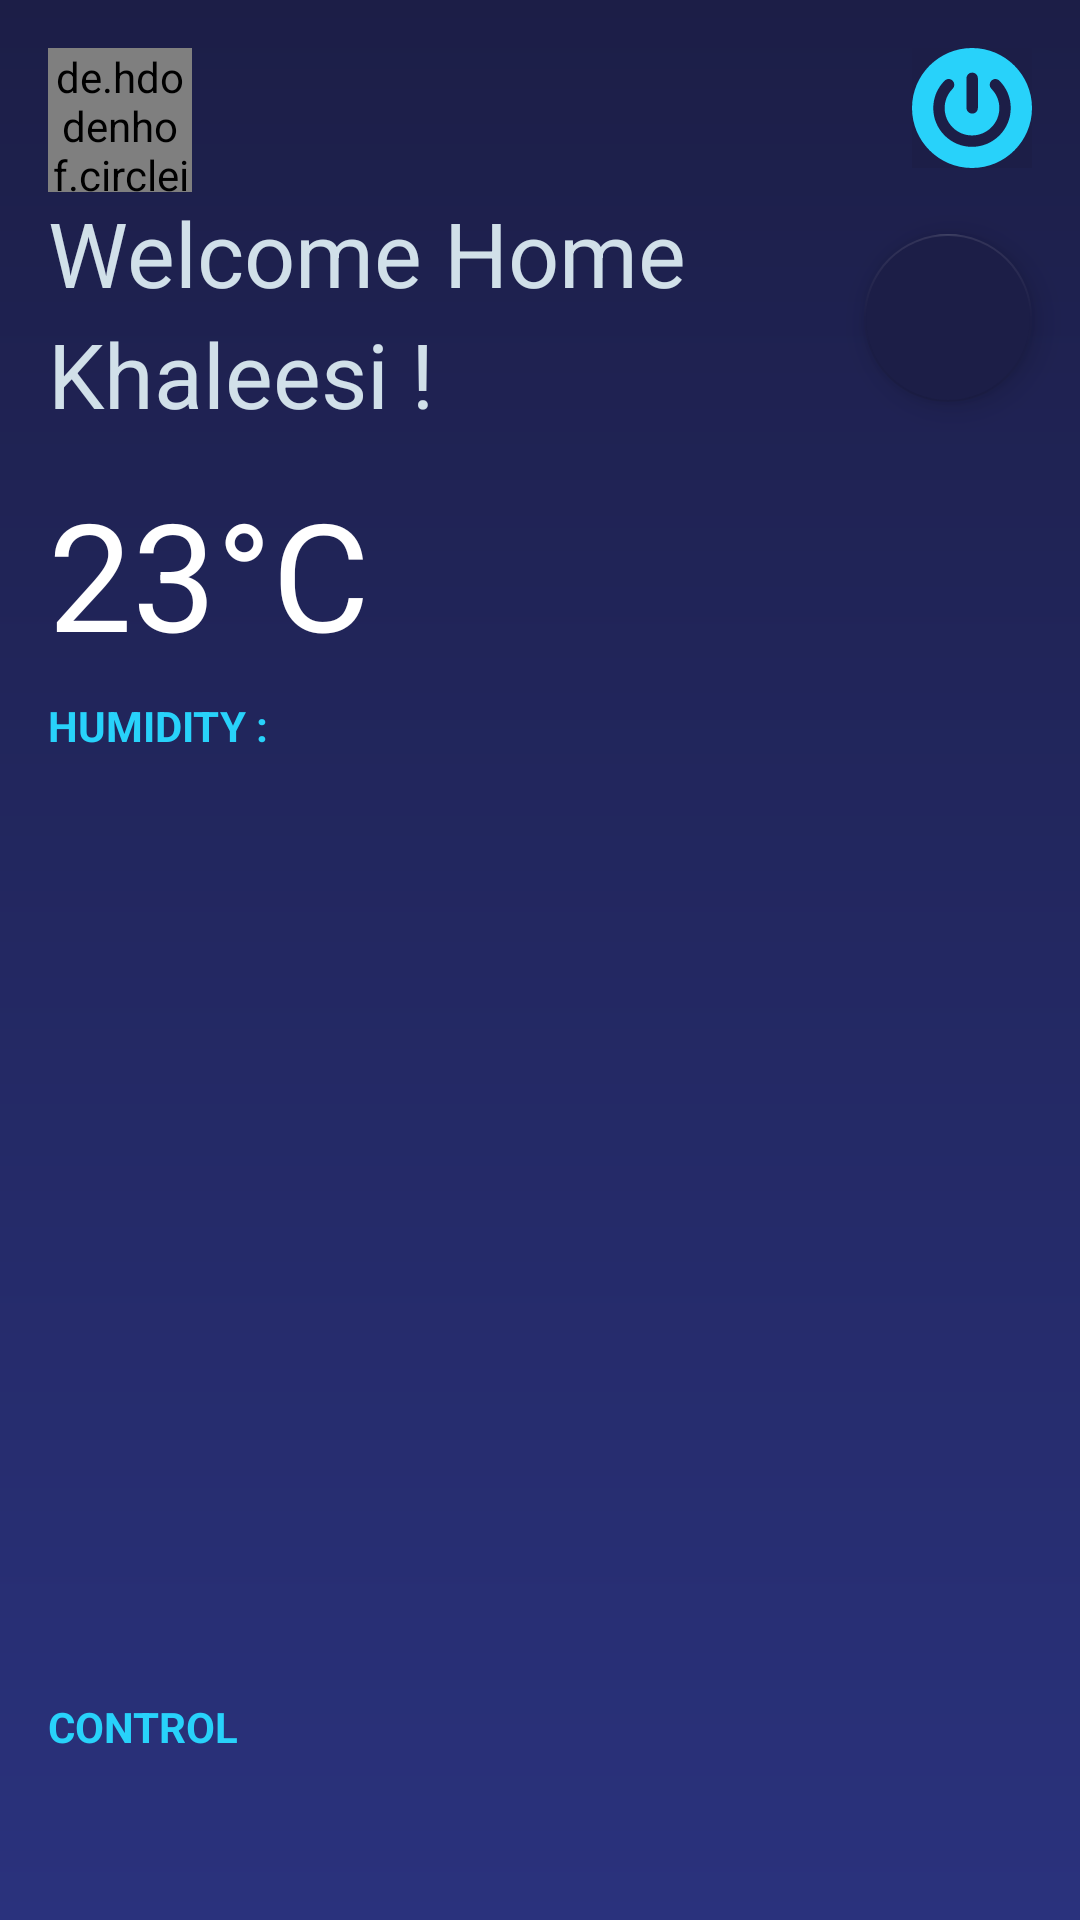

Where to tap for icons on this 1080×1920 app screen, as (x,y):
power: (972,108)
